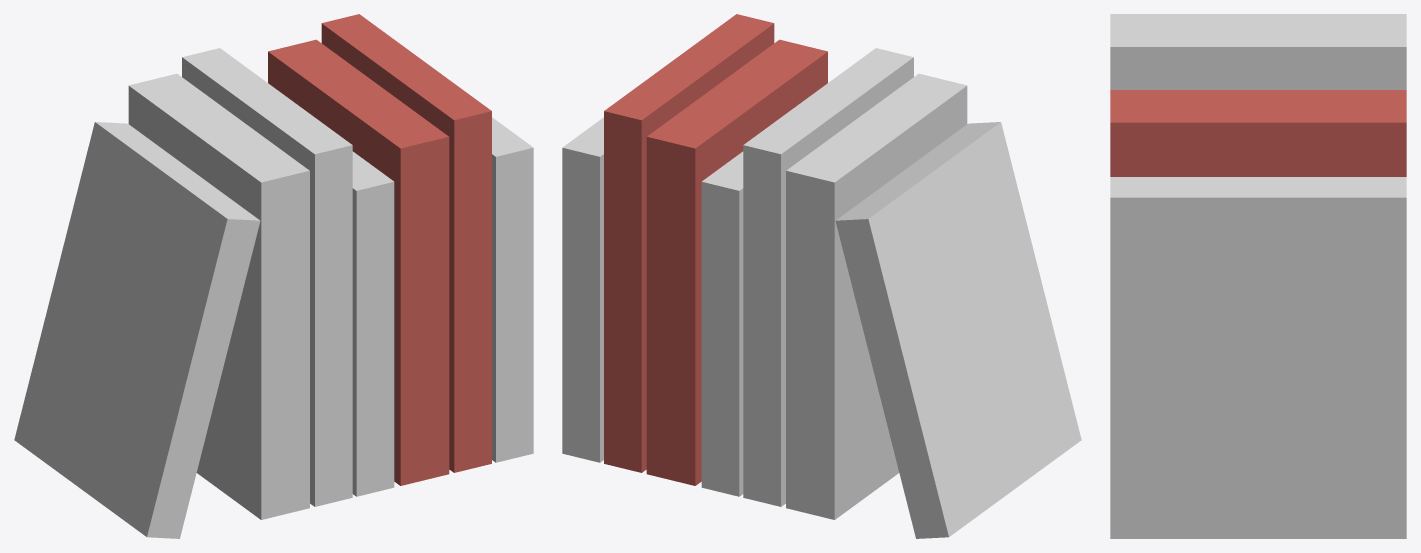
Rendered from kirjat1.fbx.
The picture shows the model from 3 angles, left to right: view 1: azimuth 30°, elevation 25°; view 2: azimuth 150°, elevation 25°; view 3: azimuth 270°, elevation 25°; orthographic projection. The views are drawn at different scales.
Parts seen in each view (by area): view 1: Cube.003; view 2: Cube.003; view 3: Cube.003.
Boxes of the visible parts, left/top/right/bottom form: Cube.003: left=14, top=14, right=533, bottom=538; Cube.003: left=562, top=14, right=1081, bottom=538; Cube.003: left=1110, top=14, right=1406, bottom=538.
Bounding box in the file's own units: 0.9446 × 0.8229 × 0.5612.
